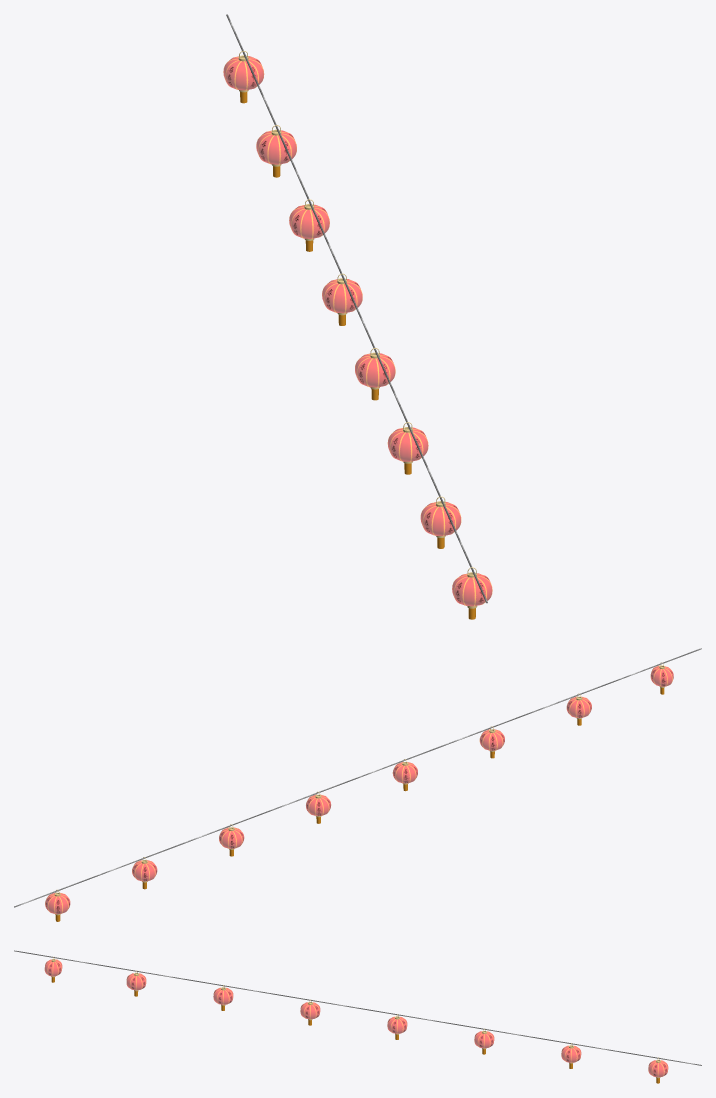
The model's file is SM_lamp_spline_Splines_24.fbx.
3 views of the same model, one above another, from view 1: azimuth 30°, elevation 25°; view 2: azimuth 150°, elevation 25°; view 3: azimuth 270°, elevation 25° (orthographic). The views are drawn at different scales.
Parts seen in each view (by area): view 1: SM_lamp_spline_Splines_24; view 2: SM_lamp_spline_Splines_24; view 3: SM_lamp_spline_Splines_24.
Part boxes in pixels (left/top/right/bottom): SM_lamp_spline_Splines_24: left=223, top=14, right=492, bottom=619; SM_lamp_spline_Splines_24: left=14, top=648, right=701, bottom=921; SM_lamp_spline_Splines_24: left=14, top=950, right=701, bottom=1083.
Bounding box in the file's own units: 670 × 1861 × 103.
